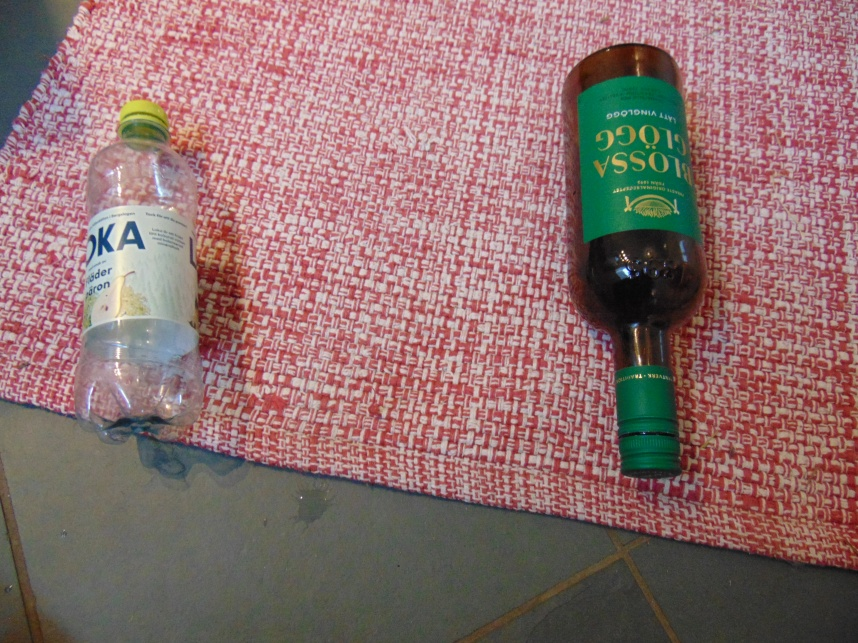glass_bottle: (562, 42, 708, 481)
plastic_bottle: (74, 99, 205, 446)
